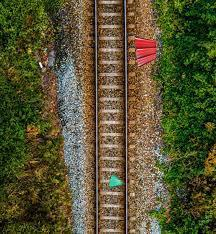Color_steel: (132, 36, 159, 67)
Dust_screen: (106, 174, 125, 189)
